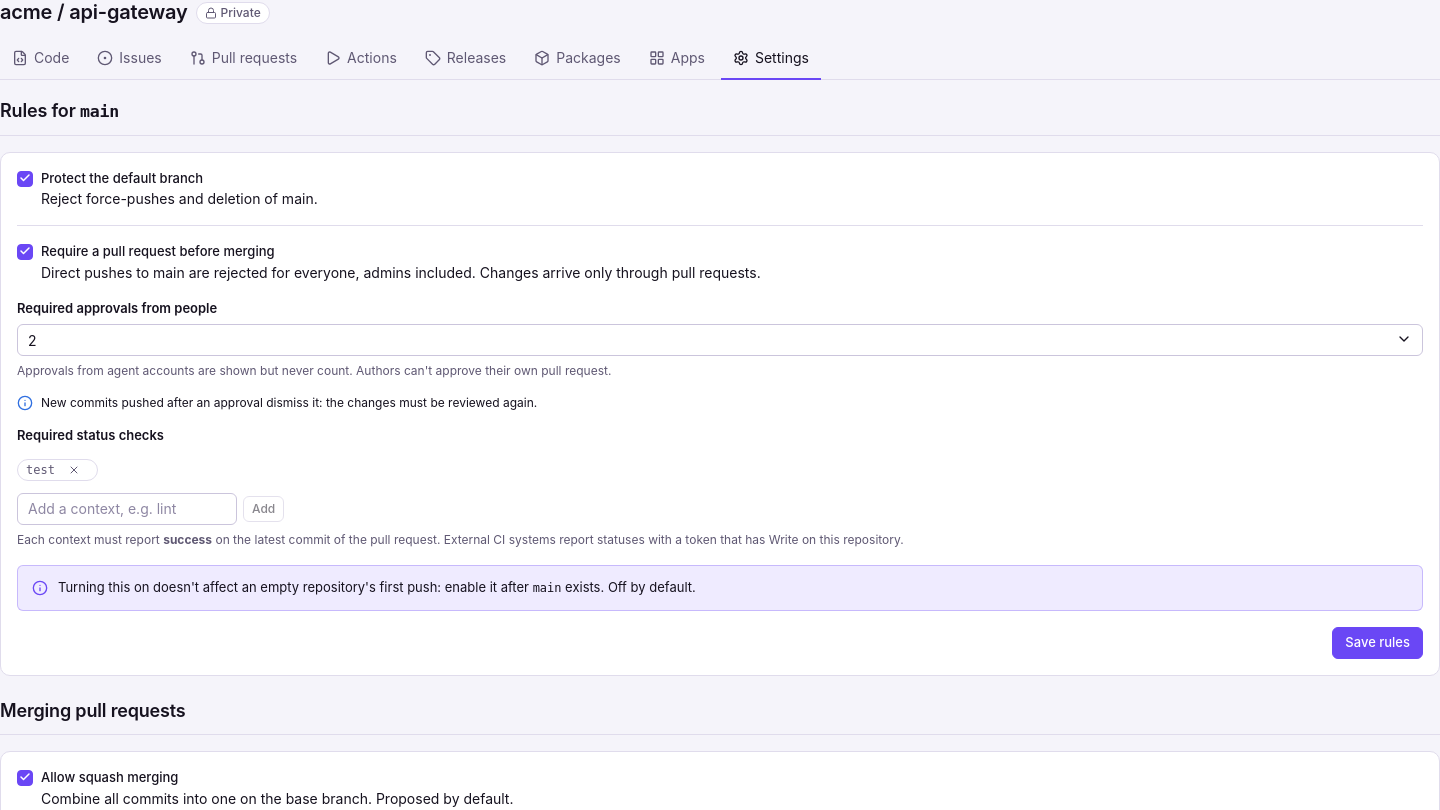
Scenario: BranchSettingsPage (mockup 28) › il salvataggio manda il PATCH con i campi invariati e mostra il toast
The width and height of the screenshot is (1440, 810).
Click the dropdown named "Required approvals from people".
click(32, 340)  # box [17,324,1423,356]
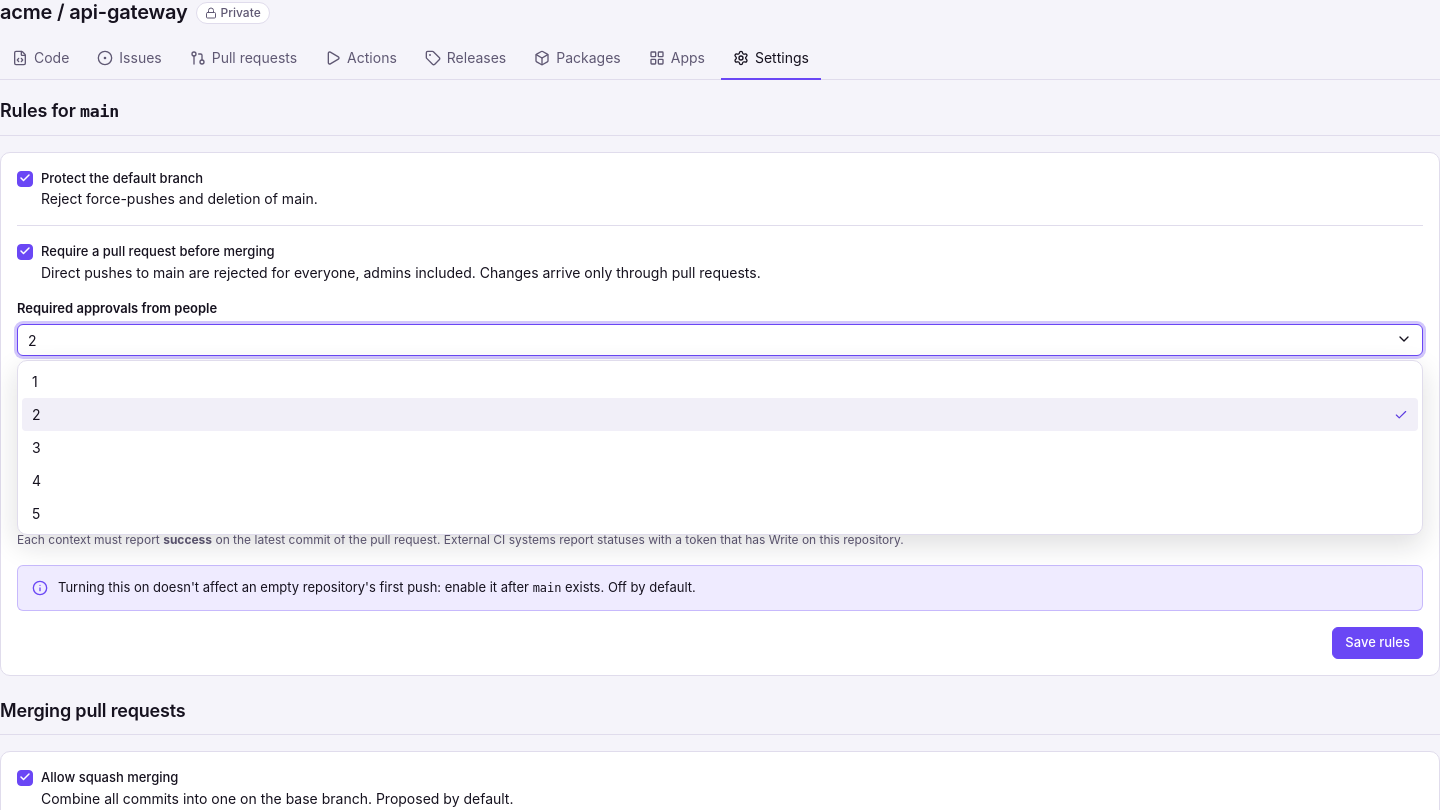
Click the option "3".
click(36, 448)  # box [32,439,41,456]
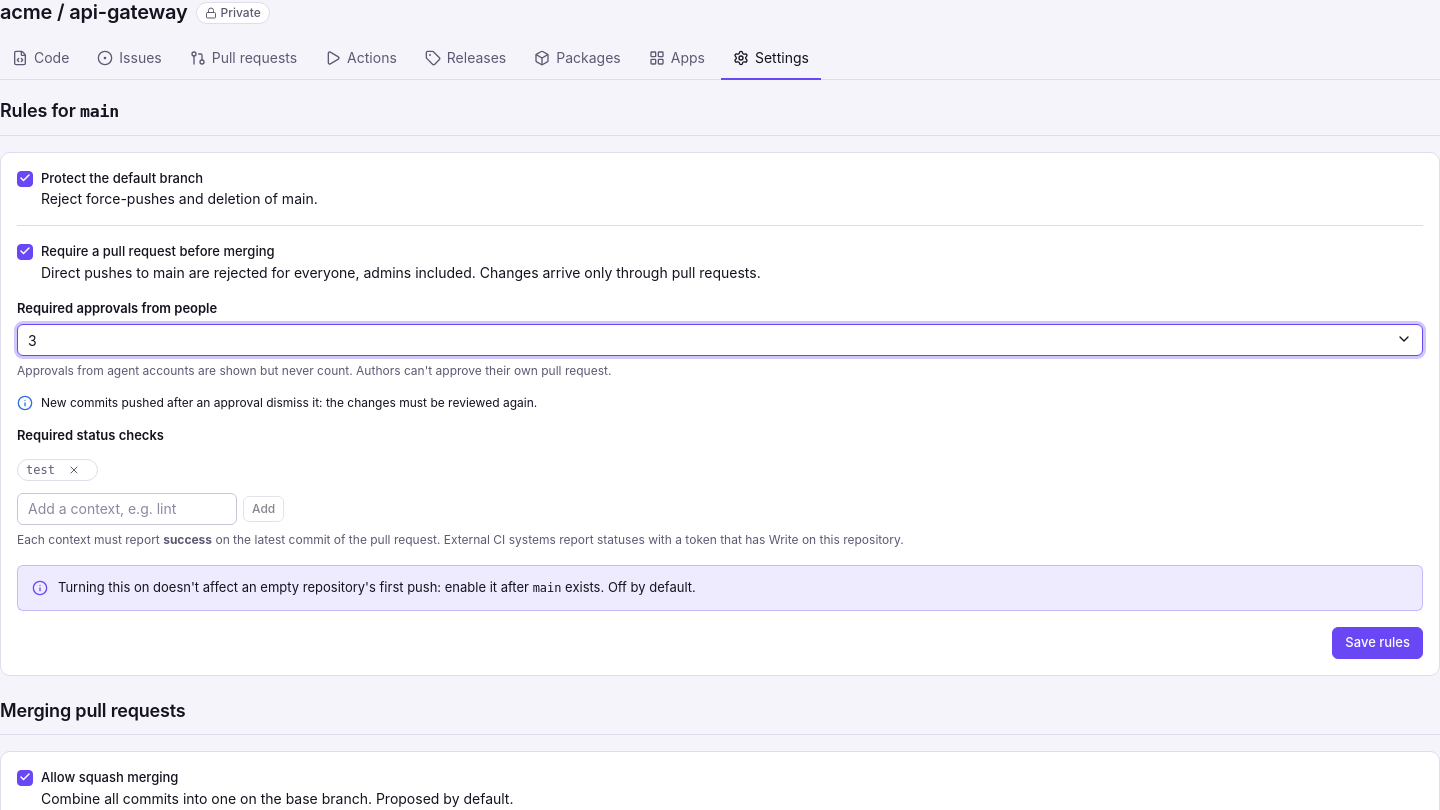
Click the button "Save rules".
click(1378, 643)  # box [1332,627,1423,659]
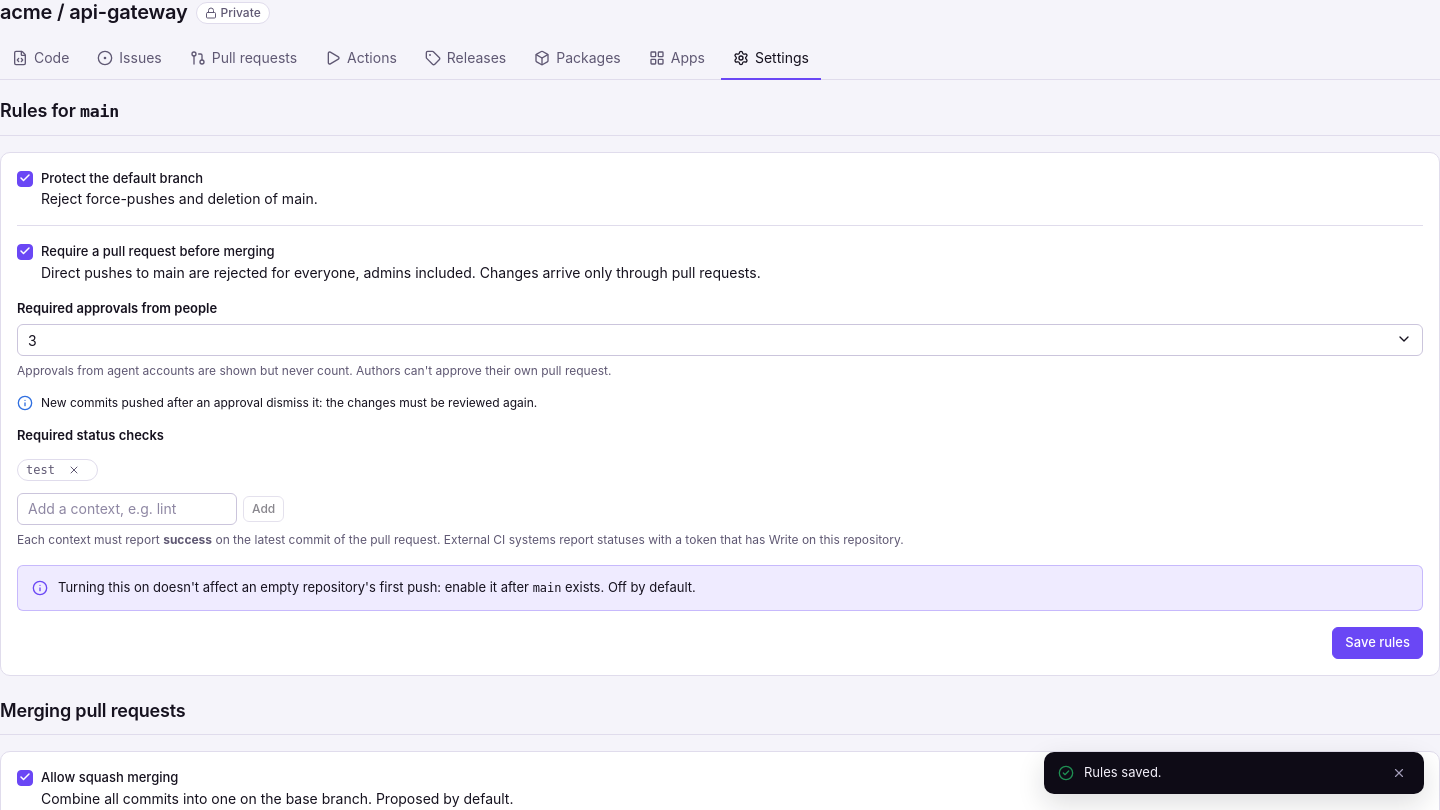
Expected: the text "Rules saved." is shown, [1084,763,1162,783]
